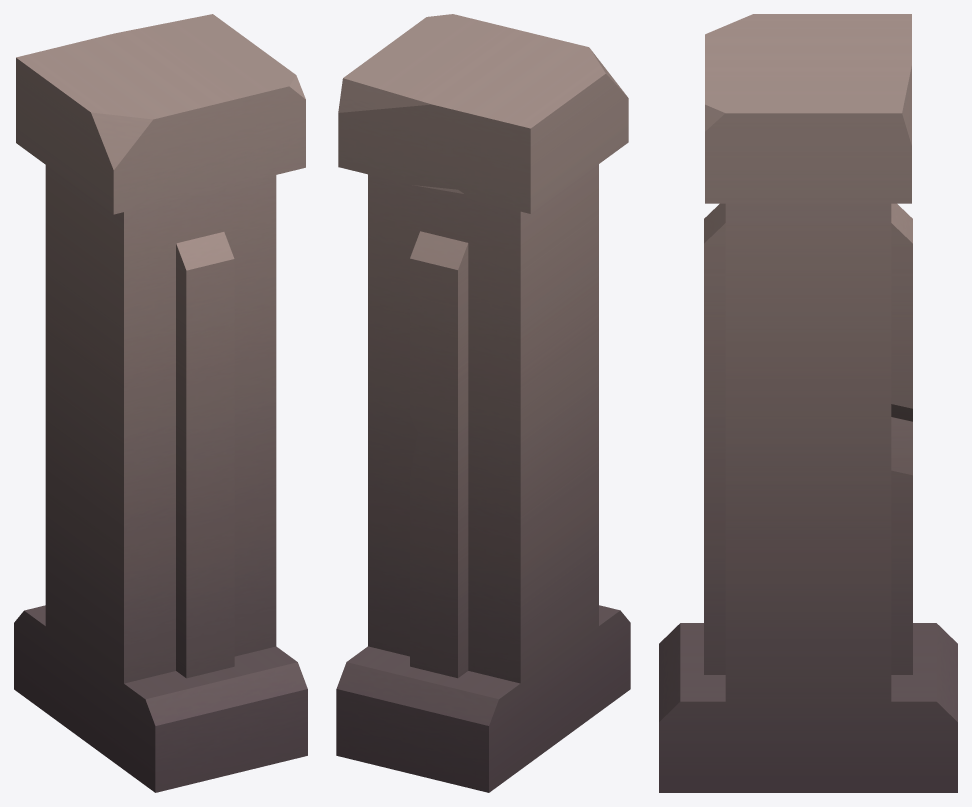
File: fenceAPillar5.glb
The picture shows the model from 3 angles, left to right: view 1: azimuth 30°, elevation 25°; view 2: azimuth 150°, elevation 25°; view 3: azimuth 270°, elevation 25°; orthographic projection. The views are drawn at different scales.
Visible parts, largest first — view 1: fenceAPillar5; view 2: fenceAPillar5; view 3: fenceAPillar5.
Part boxes in pixels (x1,y1,x2,y2): fenceAPillar5: (14,14,307,792); fenceAPillar5: (336,14,630,792); fenceAPillar5: (659,14,957,792).
Size of the model in its own units: 0.6407 by 2.08 by 0.8154.
Materials: 1 (1 with a texture image).
